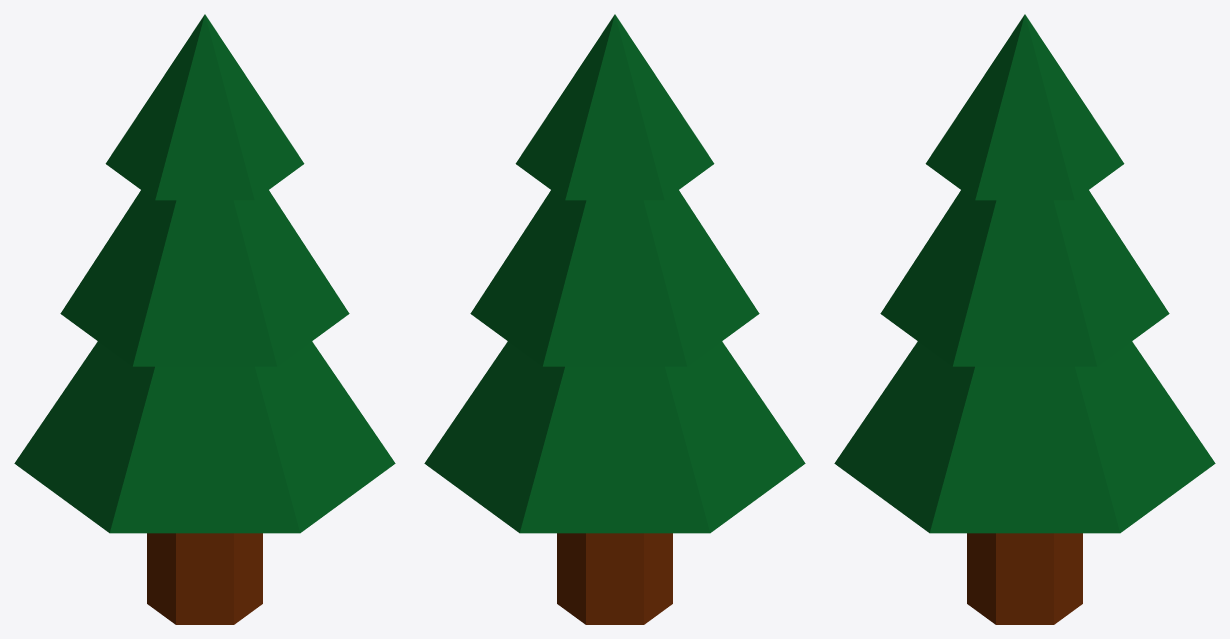
The model's file is Tree.fbx.
3 views of the same model, side by side, from view 1: azimuth 30°, elevation 25°; view 2: azimuth 150°, elevation 25°; view 3: azimuth 270°, elevation 25° (orthographic).
Parts seen in each view (by area): view 1: Leaves, Leaves.001, Leaves.002, Trunk; view 2: Leaves, Leaves.001, Leaves.002, Trunk; view 3: Leaves, Leaves.001, Leaves.002, Trunk.
Boxes of the visible parts, <box> form: Leaves: <box>14,341,395,533</box>; Leaves.001: <box>60,190,349,366</box>; Leaves.002: <box>105,14,304,200</box>; Trunk: <box>147,533,262,624</box>; Leaves: <box>424,341,805,533</box>; Leaves.001: <box>470,190,759,366</box>; Leaves.002: <box>515,14,714,200</box>; Trunk: <box>557,533,672,624</box>; Leaves: <box>834,341,1215,533</box>; Leaves.001: <box>880,190,1169,366</box>; Leaves.002: <box>925,14,1124,200</box>; Trunk: <box>967,533,1082,624</box>.
Size of the model in its own units: 568 by 1119 by 656.
